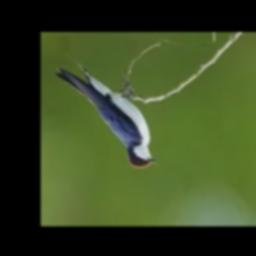Swallow: (54, 66, 158, 168)
